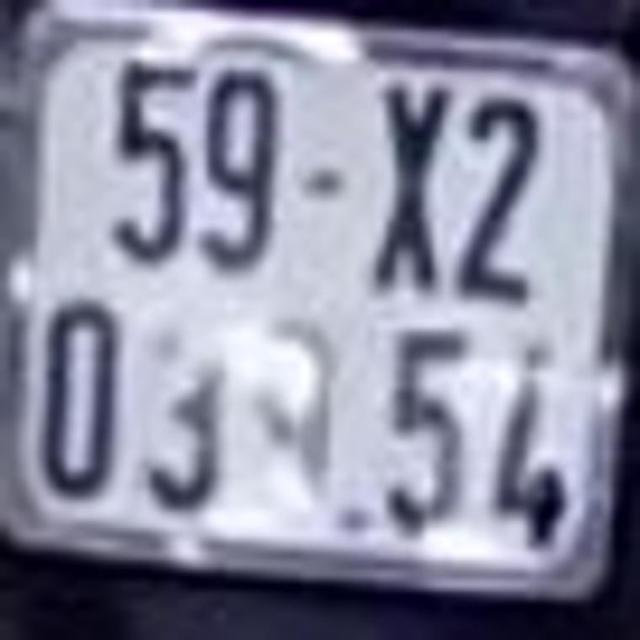0: (38, 292, 120, 499)
2: (458, 91, 538, 308)
3: (142, 298, 226, 513)
4: (493, 333, 570, 554)
5: (386, 322, 470, 541), (110, 53, 194, 266)
9: (201, 63, 277, 275)
X: (372, 81, 448, 294)
